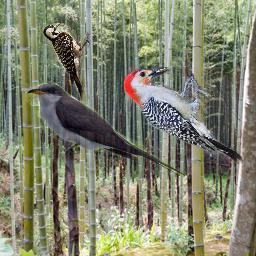Cuckoo: (25, 83, 185, 180)
Woodpecker: (124, 67, 243, 164), (43, 23, 90, 102)
